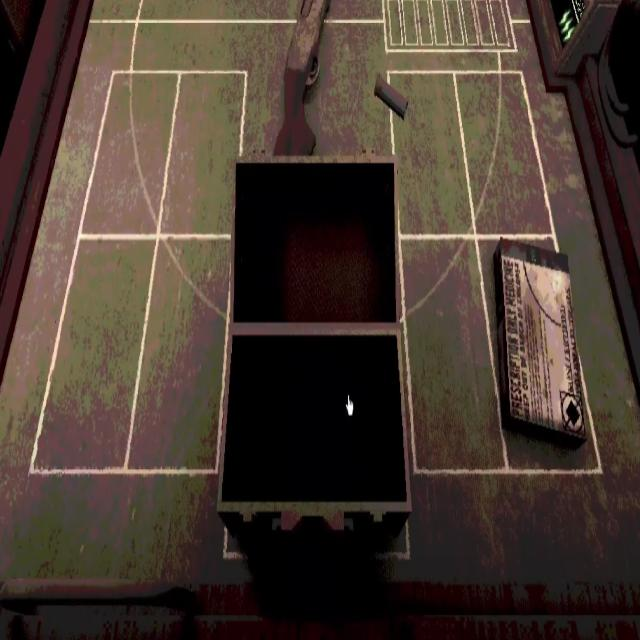expired-medicine: (494, 238, 586, 444)
inventorybox: (219, 156, 410, 528)
